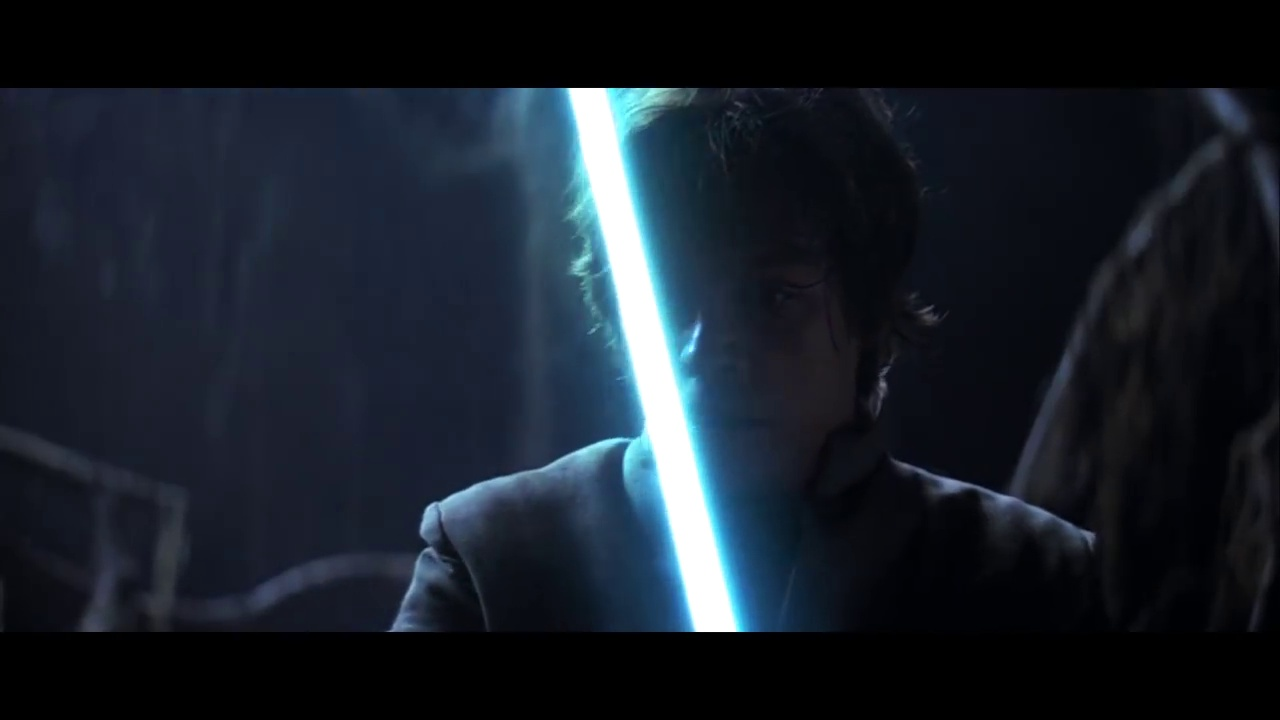lightsaber: (506, 84, 756, 635)
